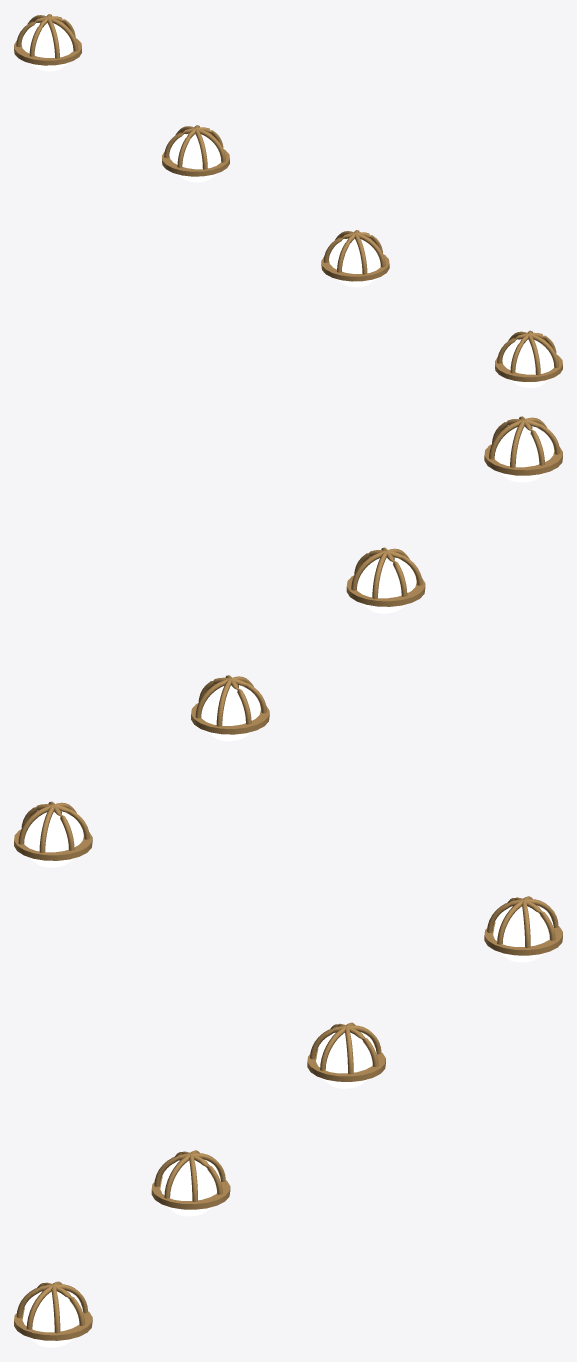
The model's file is SM_Menu_Footlights.fbx.
The picture shows the model from 3 angles, top to bottom: view 1: azimuth 30°, elevation 25°; view 2: azimuth 150°, elevation 25°; view 3: azimuth 330°, elevation 25°; orthographic projection. The views are drawn at different scales.
Parts seen in each view (by area): view 1: SM_Menu_Footlights; view 2: SM_Menu_Footlights; view 3: SM_Menu_Footlights.
Boxes of the visible parts, <box> form: SM_Menu_Footlights: <box>14,14,562,387</box>; SM_Menu_Footlights: <box>14,416,562,867</box>; SM_Menu_Footlights: <box>14,896,562,1347</box>.
Bounding box in the file's own units: 66.41 × 559 × 33.44.
